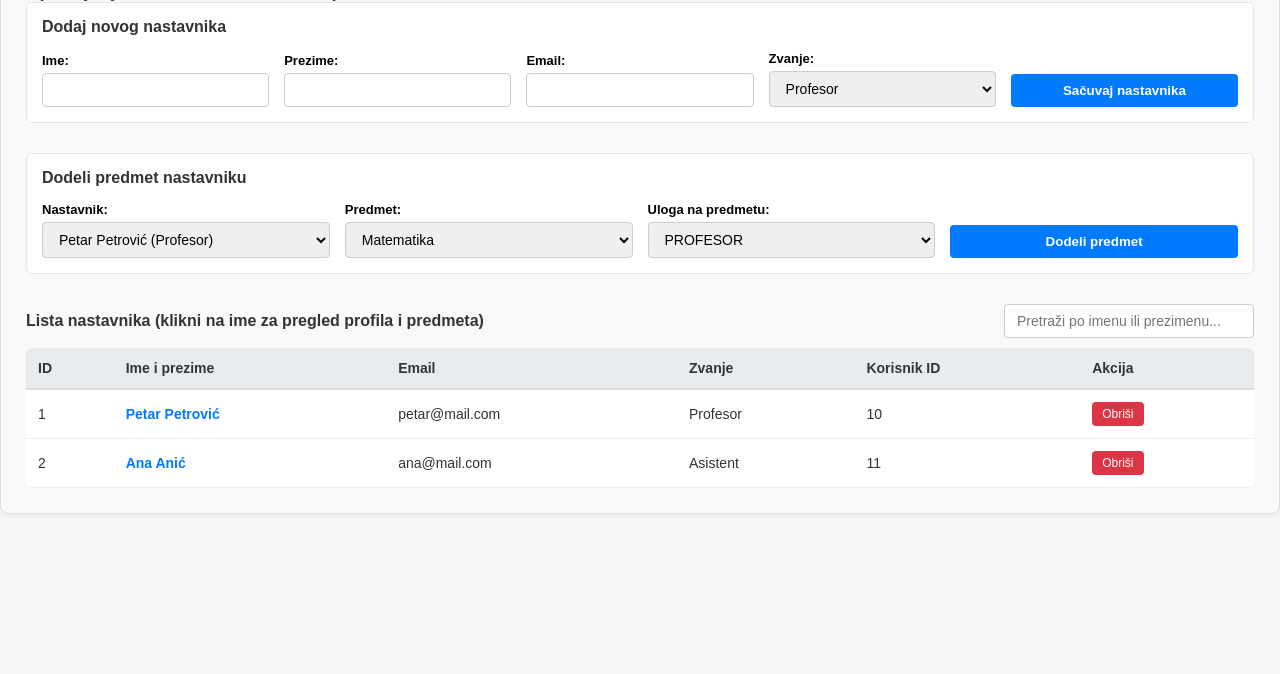
Test: AdminNastavnici Component - Comprehensive Tests › prikazuje dosije nastavnika i njegove predmete kada se klikne na ime
The image size is (1280, 674).
Click the text "Petar Petrović" at point(143, 414), box [114,389,386,438]
(page scrolled)
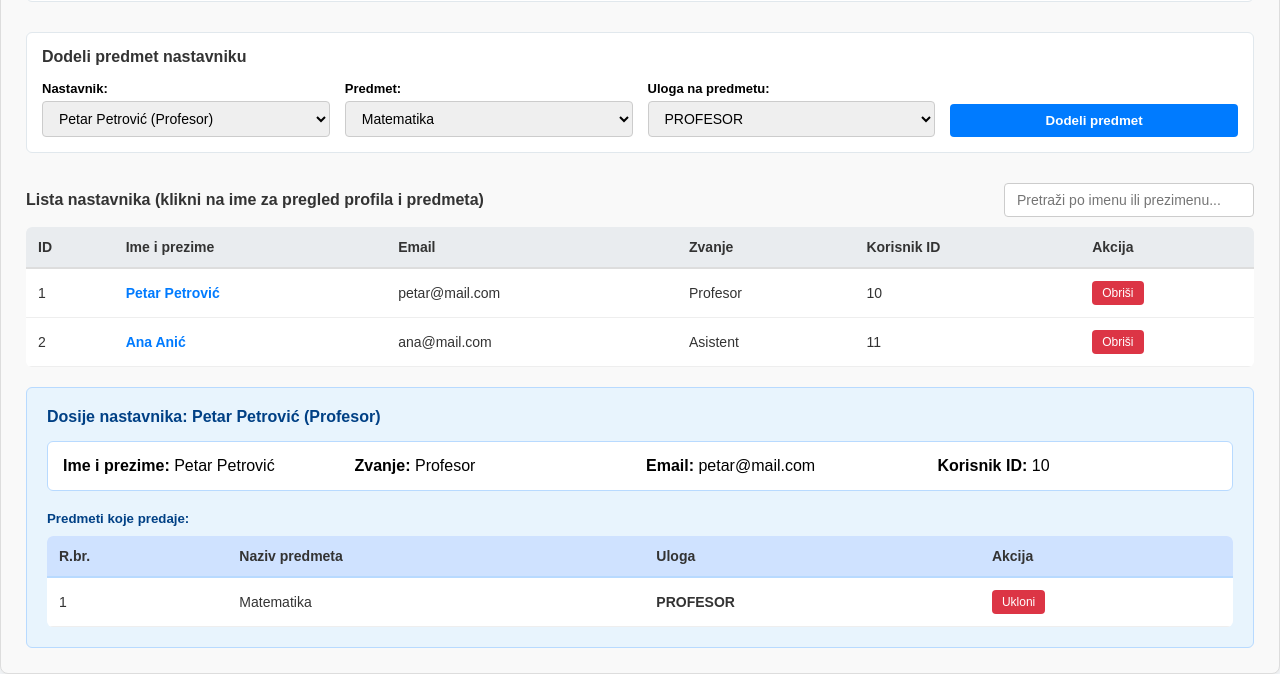
Expected: the heading "Dosije nastavnika: Petar Petrović (Profesor)" is shown, [47,408,380,425]
Expected: the text "Matematika" is shown, [227,577,644,626]
